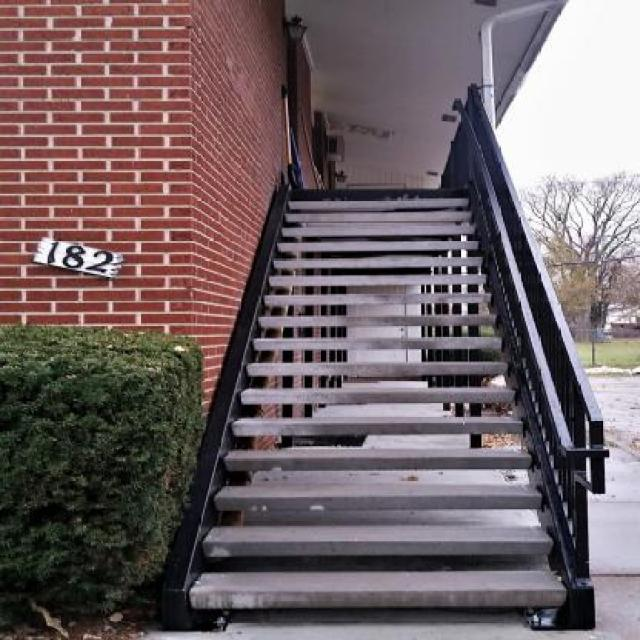stair: (105, 88, 620, 630)
